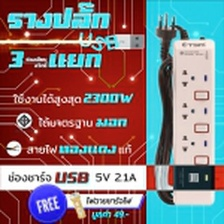three_eye_plug: (166, 33, 219, 208)
